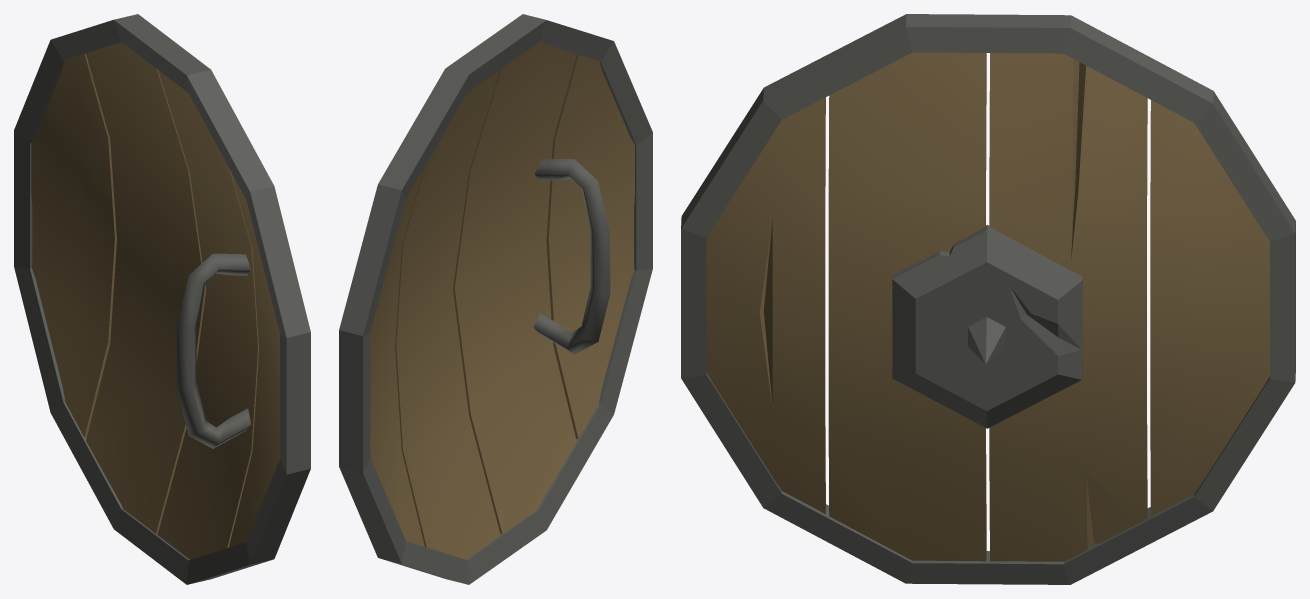
The model's file is LowPolyDungeonShield.glb.
The picture shows the model from 3 angles, left to right: view 1: azimuth 30°, elevation 25°; view 2: azimuth 150°, elevation 25°; view 3: azimuth 270°, elevation 25°; orthographic projection. The views are drawn at different scales.
Visible parts, largest first — view 1: Shield.001; view 2: Shield.001; view 3: Shield.001.
Boxes of the visible parts, box(x1,y1,x2,y2) form: Shield.001: box(14, 14, 310, 584); Shield.001: box(339, 14, 652, 584); Shield.001: box(681, 14, 1295, 584).
Bounding box in the file's own units: 0.408 × 1.15 × 1.15.
Materials: 2 (2 with a texture image).
